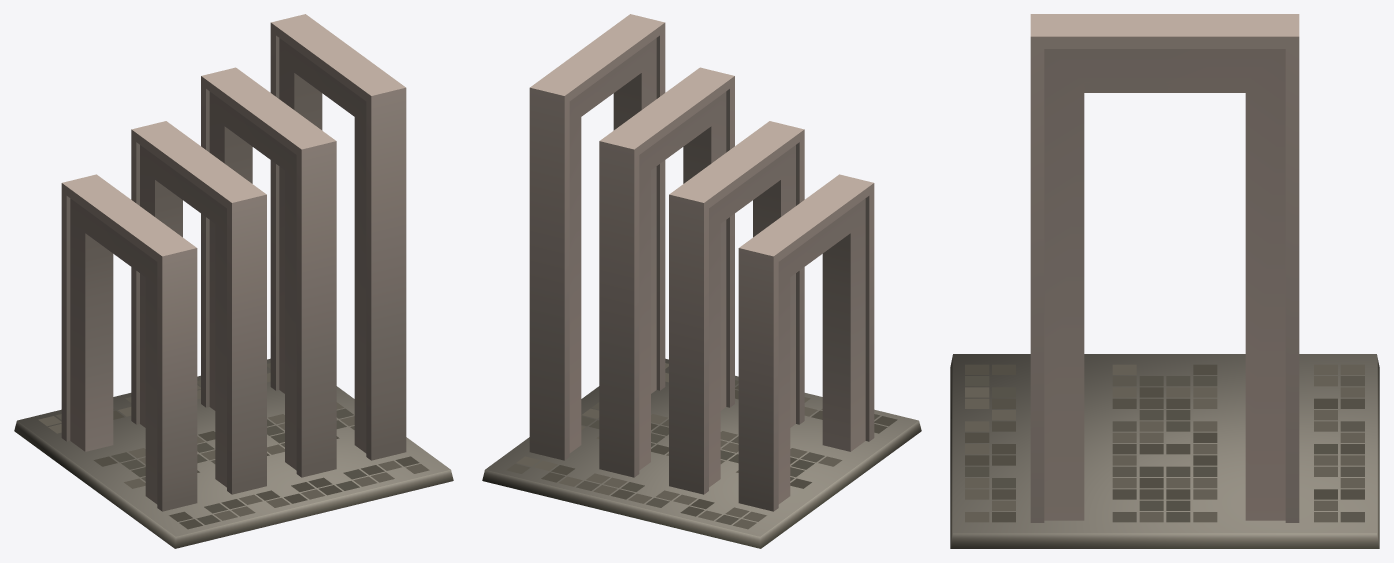
The model's file is Modern_Arch_1B.fbx.
3 renders of one model, left to right at view 1: azimuth 30°, elevation 25°; view 2: azimuth 150°, elevation 25°; view 3: azimuth 270°, elevation 25°, orthographic. The views are drawn at different scales.
Parts seen in each view (by area): view 1: Modern_Arch_1B; view 2: Modern_Arch_1B; view 3: Modern_Arch_1B.
Part boxes in pixels (x1,y1,x2,y2): Modern_Arch_1B: (14,14,453,548); Modern_Arch_1B: (482,14,921,548); Modern_Arch_1B: (950,14,1379,548).
Bounding box in the file's own units: 800 × 1030 × 800.
